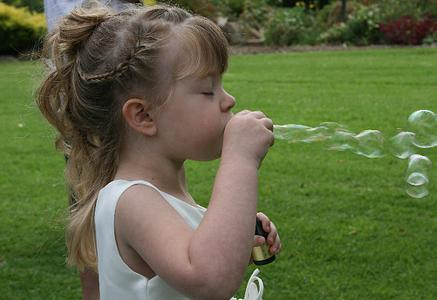person: (44, 5, 283, 298)
